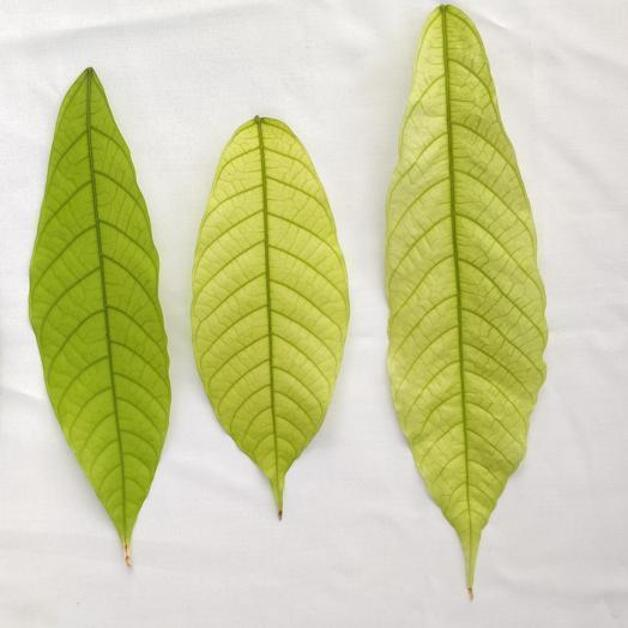Iron: (386, 4, 547, 595), (29, 68, 168, 563), (192, 116, 348, 517)
